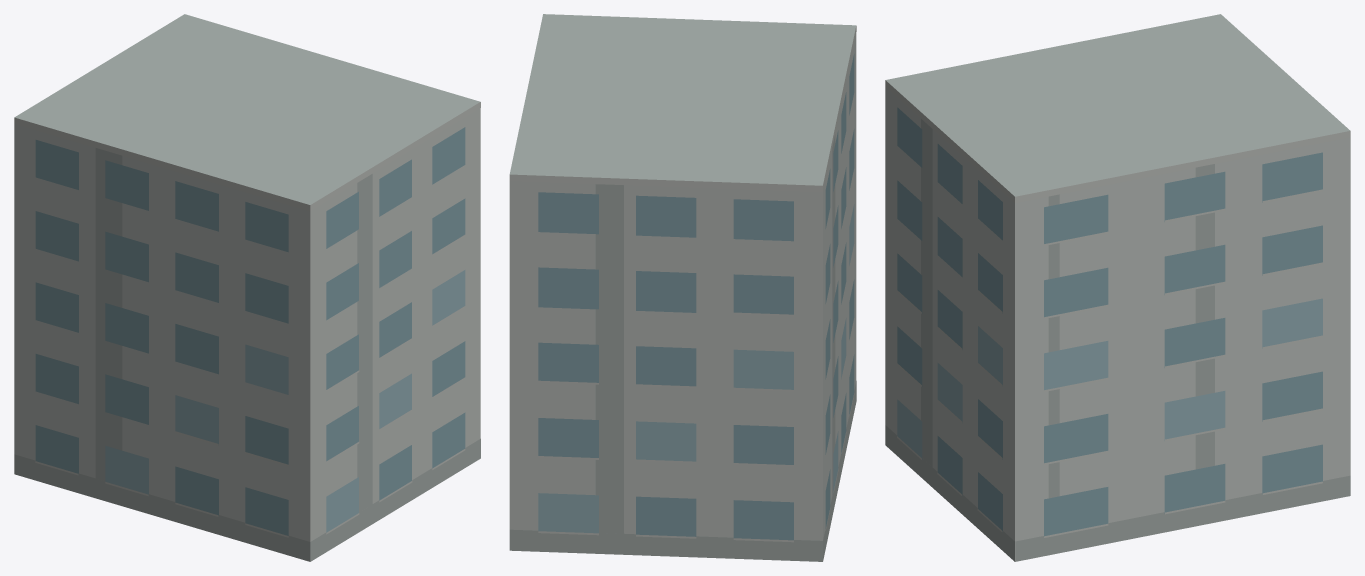
File: survey-upis-32618839.glb
3 renders of one model, left to right at view 1: azimuth 30°, elevation 25°; view 2: azimuth 150°, elevation 25°; view 3: azimuth 270°, elevation 25°, orthographic. The views are drawn at different scales.
Visible parts, largest first — view 1: survey-upis-32618839.tmp; view 2: survey-upis-32618839.tmp; view 3: survey-upis-32618839.tmp.
Part boxes in pixels (box(x1,y1,x2,y2)): survey-upis-32618839.tmp: box(14, 14, 480, 561); survey-upis-32618839.tmp: box(509, 14, 856, 561); survey-upis-32618839.tmp: box(885, 14, 1350, 561).
Size of the model in its own units: 15.04 by 14 by 16.17.
